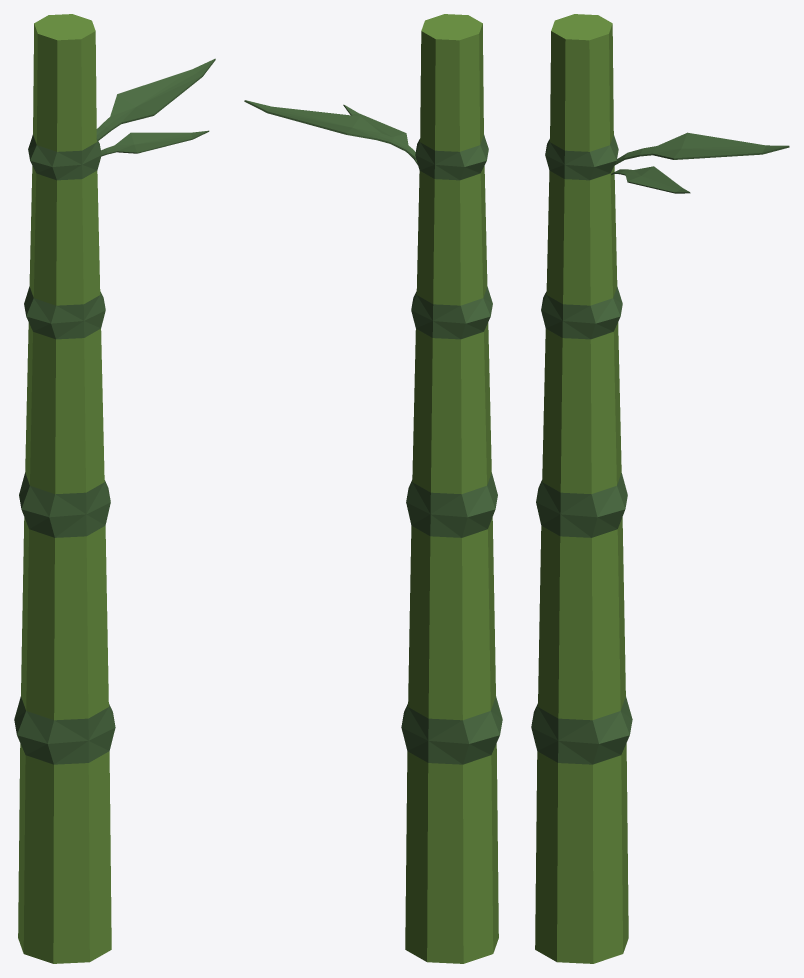
File: bamboo.fbx
3 renders of one model, left to right at view 1: azimuth 30°, elevation 25°; view 2: azimuth 150°, elevation 25°; view 3: azimuth 330°, elevation 25°, orthographic.
Parts seen in each view (by area): view 1: bamboo_LOD0; view 2: bamboo_LOD0; view 3: bamboo_LOD0.
Part boxes in pixels (x1,y1,x2,y2): bamboo_LOD0: (14, 14, 215, 963); bamboo_LOD0: (244, 14, 502, 963); bamboo_LOD0: (531, 14, 789, 963).
Size of what is drawn, in the model's own units: 81.67 by 315 by 33.53.
